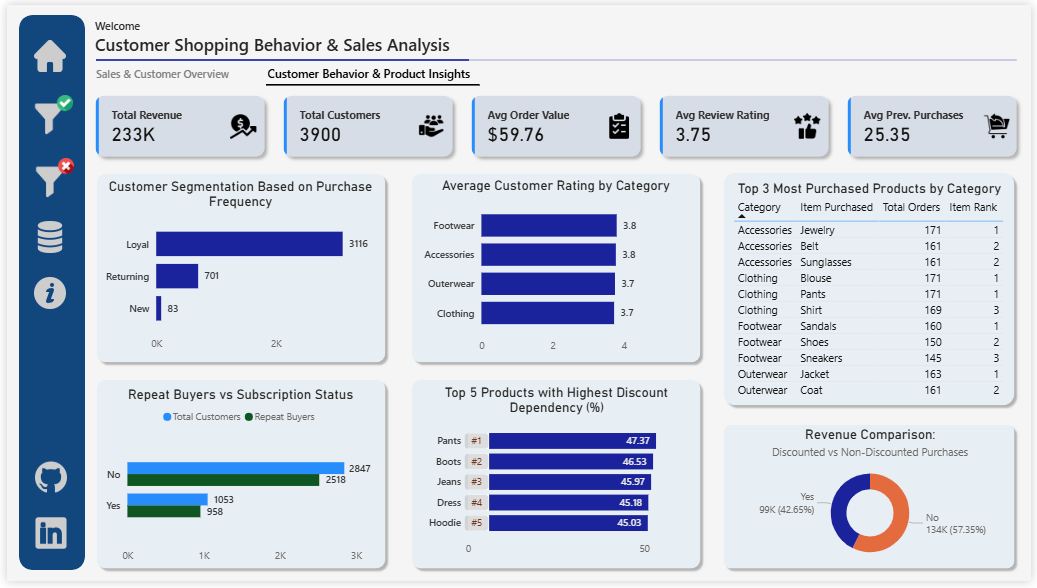

This screenshot's page, from the dashboard's own definition file:
{"tool":"powerbi","page":{"name":"Customer Behavior & Product Insights","canvas":[1280,720],"ordinal":1},"visuals":[{"type":"shape","box":[14.7,12.5,82.5,693.8],"z":0,"group":"g1"},{"type":"pageNavigator","box":[111.2,68.8,200,32.5],"z":0,"group":"g2"},{"type":"cardVisual","fields":{"Data":["customer.Total Revenue","customer.Total Customers","customer.Avg_Order_Value","customer.Avg Review Rating","customer.avg_previous_purchases"]},"box":[93.8,96.2,1186.2,110],"z":0},{"type":"textbox","box":[105,12.5,486.2,62.5],"z":1000},{"type":"pageNavigator","box":[323.7,68.8,267.5,32.5],"z":1000,"group":"g2"},{"type":"image","box":[23.9,265.6,60,49.8],"z":1000,"group":"g1"},{"type":"image","box":[23.7,38.3,59.6,49.5],"z":2000,"group":"g1"},{"type":"shape","box":[498.2,203.7,375,250],"z":2000},{"type":"image","title":"Clear Filter","box":[28,186.3,60,60],"z":3000,"group":"g1"},{"type":"shape","box":[498.8,461.2,375,250],"z":3000},{"type":"shape","box":[111.2,62.5,1151.2,12.5],"z":4000},{"type":"image","title":"Applied Filter","box":[27.6,107,60.3,60],"z":4000,"group":"g1"},{"type":"shape","box":[888.8,202.5,377.5,305],"z":5000},{"type":"image","box":[23.9,334.7,60,49.8],"z":5000,"group":"g1"},{"type":"shape","box":[111.2,62.5,466.2,12.5],"z":6000},{"type":"image","box":[24.8,634.5,59.6,49.5],"z":6000,"group":"g1"},{"type":"shape","box":[104.5,203.7,375,250],"z":7000},{"type":"image","box":[24.8,564.7,59.6,49.5],"z":7000,"group":"g1"},{"type":"image","box":[22.5,43.8,60,50],"z":8000},{"type":"shape","box":[888.8,517.5,377.5,193.8],"z":9000},{"type":"image","box":[22.5,125.4,60,50],"z":10000},{"type":"shape","box":[105,461.2,375,250],"z":11000},{"type":"image","box":[22.5,288.8,60,50],"z":12000},{"type":"image","box":[22.5,207.1,60,50],"z":13000},{"type":"donutChart","title":"Revenue Comparison: ","fields":{"Category":["customer.discount_applied"],"Y":["customer.Total Revenue"]},"box":[898.8,526.2,360,176.2],"z":14000},{"type":"barChart","title":"Customer Segmentation Based on Purchase Frequency","fields":{"Category":["customer.Customer_segmentation"],"Y":["customer.Total Customers"]},"box":[117.3,216,349.3,224.6],"z":15000},{"type":"barChart","title":"Average Customer Rating by Category","fields":{"Y":["customer.Avg Review Rating"],"Category":["customer.category"]},"box":[515,215,342.5,228.8],"z":16000},{"type":"clusteredBarChart","title":"Repeat Buyers vs Subscription Status","fields":{"Category":["customer.subscription_status"],"Y":["customer.Total Customers","customer.Repeat Buyers"]},"box":[117.5,476.2,348.8,230],"z":17000},{"type":"barChart","title":"Top 5 Products with Highest Discount Dependency (%)","fields":{"Y":["Item_Counts.Dummy","customer.Discount Percentage"],"Category":["customer.item_purchased"]},"box":[521.2,473.8,331.2,223.8],"z":18000},{"type":"tableEx","title":"Top 3 Most Purchased Products by Category","fields":{"Values":["Item Orders.category","Item Orders.item_purchased","Sum(Item Orders.total_orders)","Sum(Item Orders.item_rank)"]},"box":[902.3,218.5,356.7,280.2],"z":19000},{"type":"group","id":"g1","title":"Sidebar","box":[14.7,12.5,82.5,693.8],"z":20000},{"type":"group","id":"g2","title":"Page Navigator","box":[111.2,68.8,480,32.5],"z":21000}]}

Visuals, with their boxes on the page's 1280x720 design canvas (x1, y1, x2, y2). These are canvas units, not pixel positions in the 1037x588 screenshot, which may show the page scaled, cropped or inside an application window:
shape: (x1=15, y1=12, x2=97, y2=706)
pageNavigator: (x1=111, y1=69, x2=311, y2=101)
cardVisual - customer.Total Revenue x customer.Total Customers: (x1=94, y1=96, x2=1280, y2=206)
textbox: (x1=105, y1=12, x2=591, y2=75)
pageNavigator: (x1=324, y1=69, x2=591, y2=101)
image: (x1=24, y1=266, x2=84, y2=315)
image: (x1=24, y1=38, x2=83, y2=88)
shape: (x1=498, y1=204, x2=873, y2=454)
"Clear Filter" image: (x1=28, y1=186, x2=88, y2=246)
shape: (x1=499, y1=461, x2=874, y2=711)
shape: (x1=111, y1=62, x2=1262, y2=75)
"Applied Filter" image: (x1=28, y1=107, x2=88, y2=167)
shape: (x1=889, y1=202, x2=1266, y2=508)
image: (x1=24, y1=335, x2=84, y2=384)
shape: (x1=111, y1=62, x2=577, y2=75)
image: (x1=25, y1=634, x2=84, y2=684)
shape: (x1=104, y1=204, x2=480, y2=454)
image: (x1=25, y1=565, x2=84, y2=614)
image: (x1=22, y1=44, x2=82, y2=94)
shape: (x1=889, y1=518, x2=1266, y2=711)
image: (x1=22, y1=125, x2=82, y2=175)
shape: (x1=105, y1=461, x2=480, y2=711)
image: (x1=22, y1=289, x2=82, y2=339)
image: (x1=22, y1=207, x2=82, y2=257)
"Revenue Comparison: " donutChart: (x1=899, y1=526, x2=1259, y2=702)
"Customer Segmentation Based on Purchase Frequency" barChart: (x1=117, y1=216, x2=467, y2=441)
"Average Customer Rating by Category" barChart: (x1=515, y1=215, x2=858, y2=444)
"Repeat Buyers vs Subscription Status" clusteredBarChart: (x1=118, y1=476, x2=466, y2=706)
"Top 5 Products with Highest Discount Dependency (%)" barChart: (x1=521, y1=474, x2=852, y2=698)
"Top 3 Most Purchased Products by Category" tableEx: (x1=902, y1=218, x2=1259, y2=499)
"Sidebar" group: (x1=15, y1=12, x2=97, y2=706)
"Page Navigator" group: (x1=111, y1=69, x2=591, y2=101)
